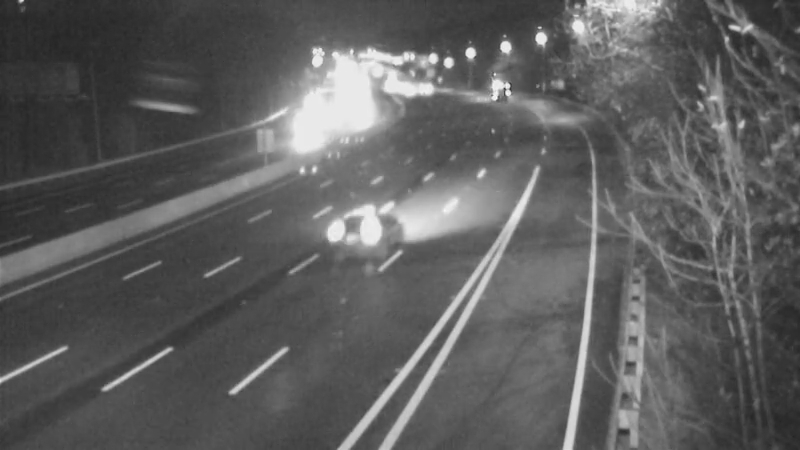vehicle: (321, 188, 401, 268), (470, 57, 520, 107), (279, 116, 329, 166)
